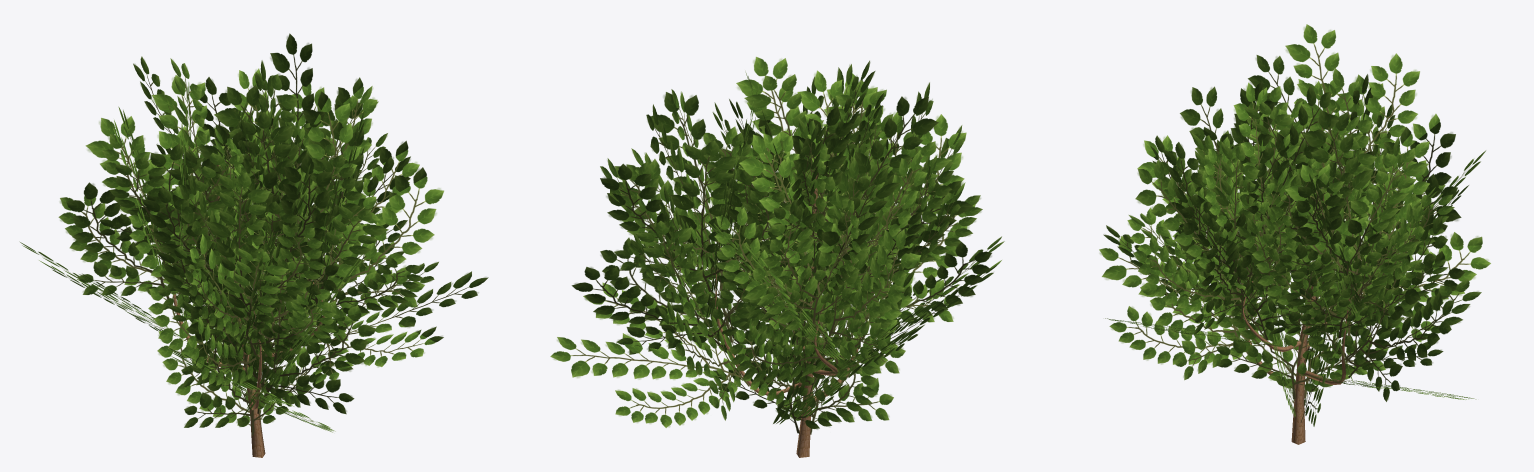
Rendered from bush_01.glb.
3 views of the same model, side by side, from view 1: azimuth 30°, elevation 25°; view 2: azimuth 150°, elevation 25°; view 3: azimuth 270°, elevation 25° (orthographic). The views are drawn at different scales.
Parts seen in each view (by area): view 1: bush_01; view 2: bush_01; view 3: bush_01.
Part boxes in pixels (x1,y1,x2,y2): bush_01: (20,33,488,457); bush_01: (550,57,1004,457); bush_01: (1099,24,1490,444).
Bounding box in the file's own units: 2.67 × 2.58 × 2.76.
1 material, 1 textured.
